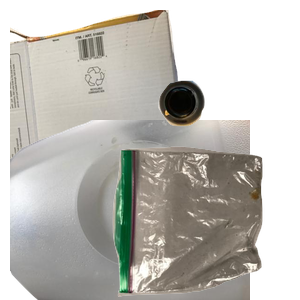cardboard: (10, 10, 191, 190)
glass: (156, 78, 300, 197)
plastic: (10, 120, 250, 300)
trash: (110, 144, 300, 300)
